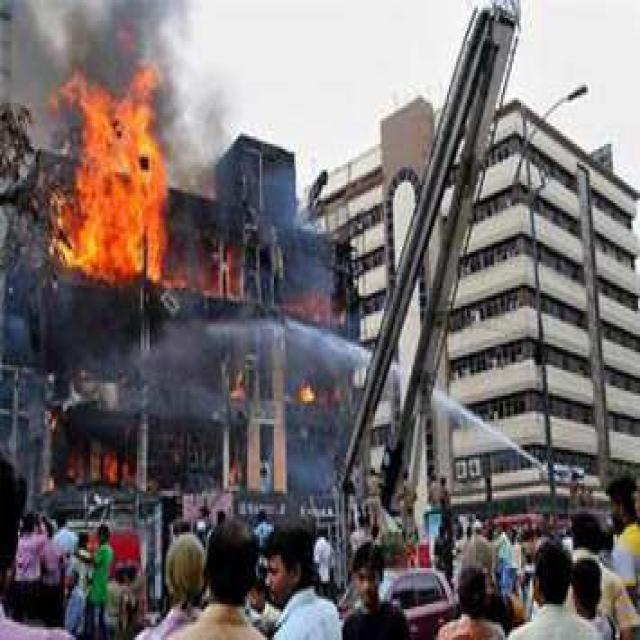fire: (51, 63, 168, 284)
